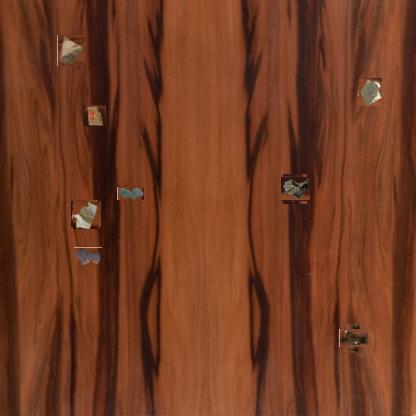dirty: (56, 36, 85, 65), (72, 200, 100, 228), (282, 176, 309, 202), (357, 79, 383, 105), (342, 327, 366, 350), (84, 105, 106, 125)
liquid: (74, 247, 102, 266), (117, 186, 144, 200)
